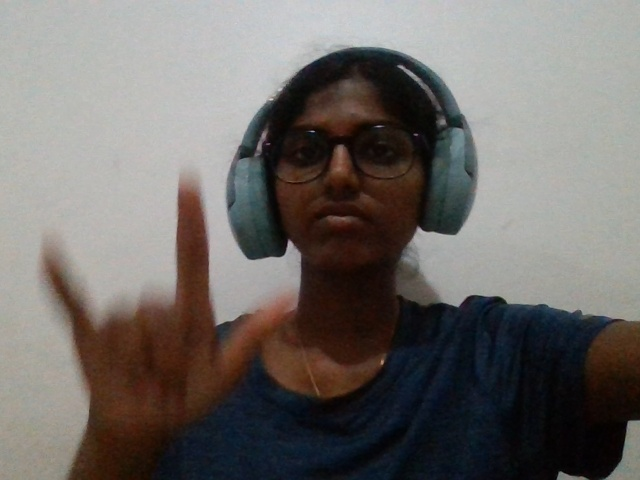I Love You: (16, 159, 300, 480)
